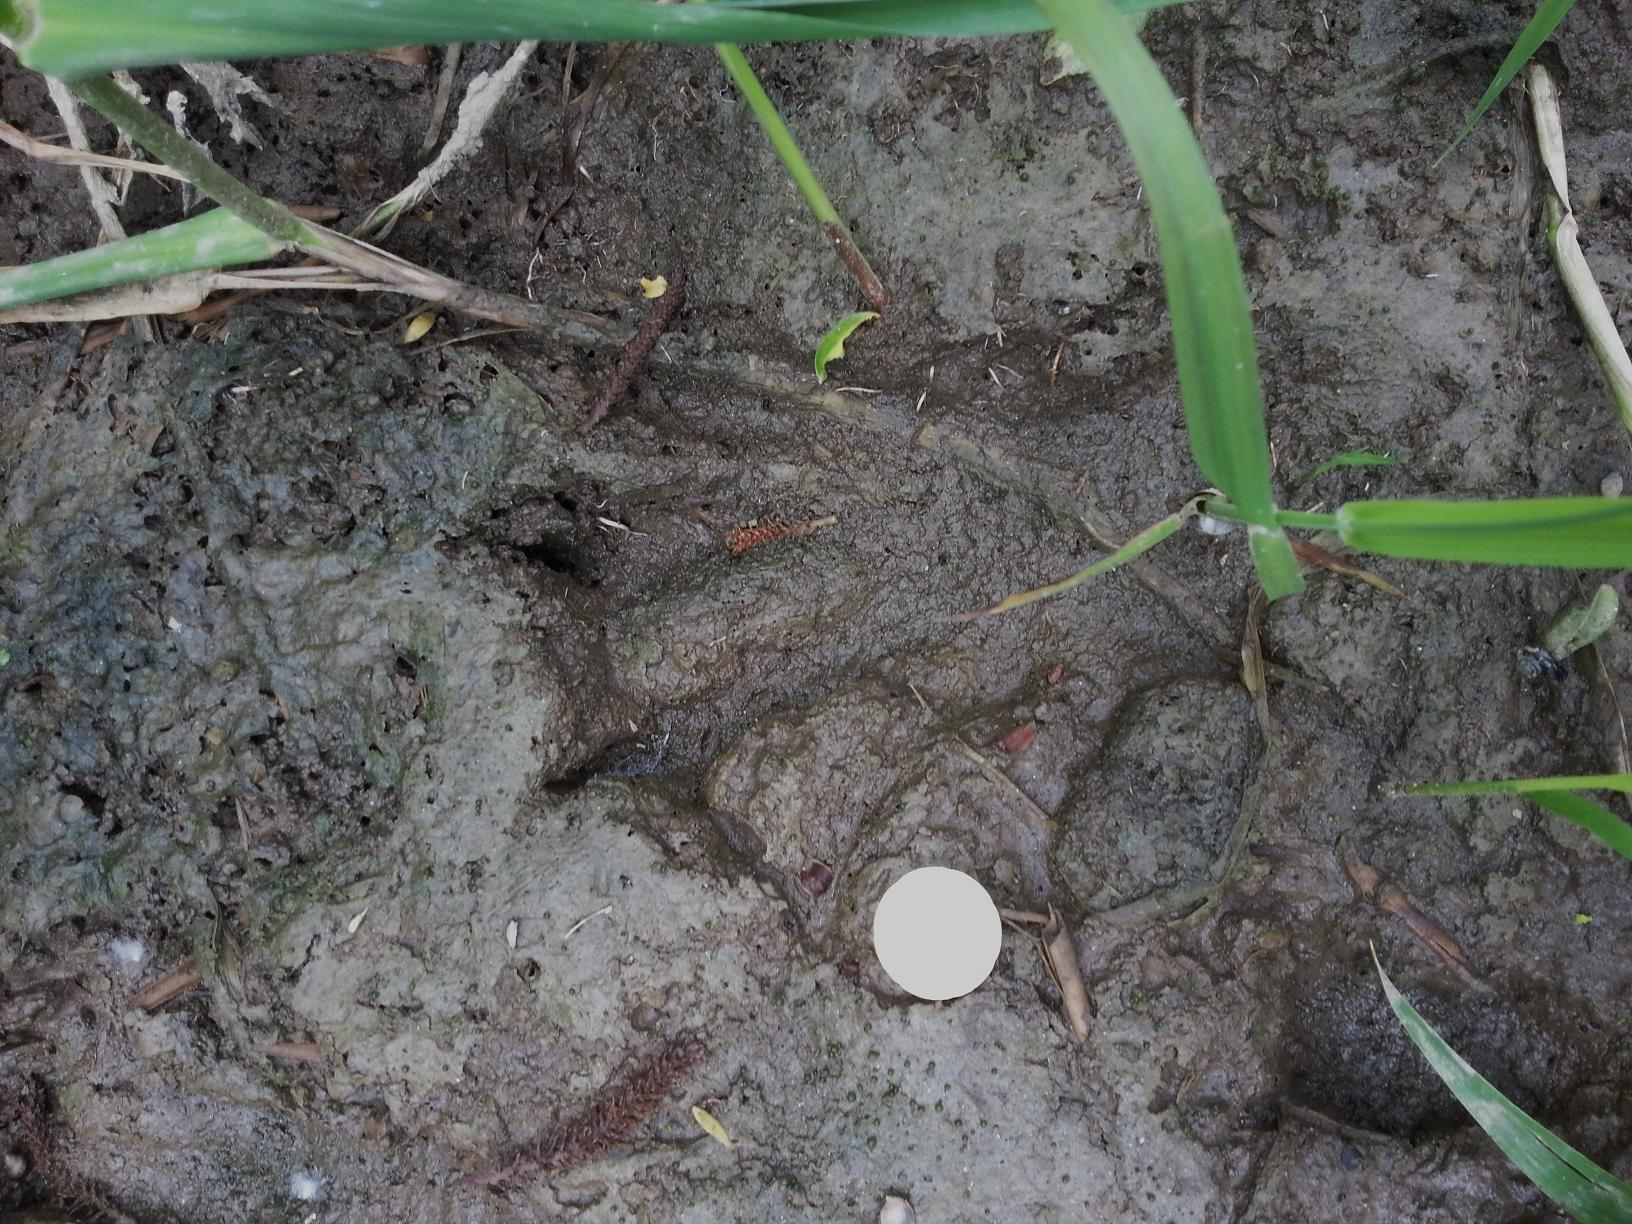beaver: (442, 278, 1270, 860)
